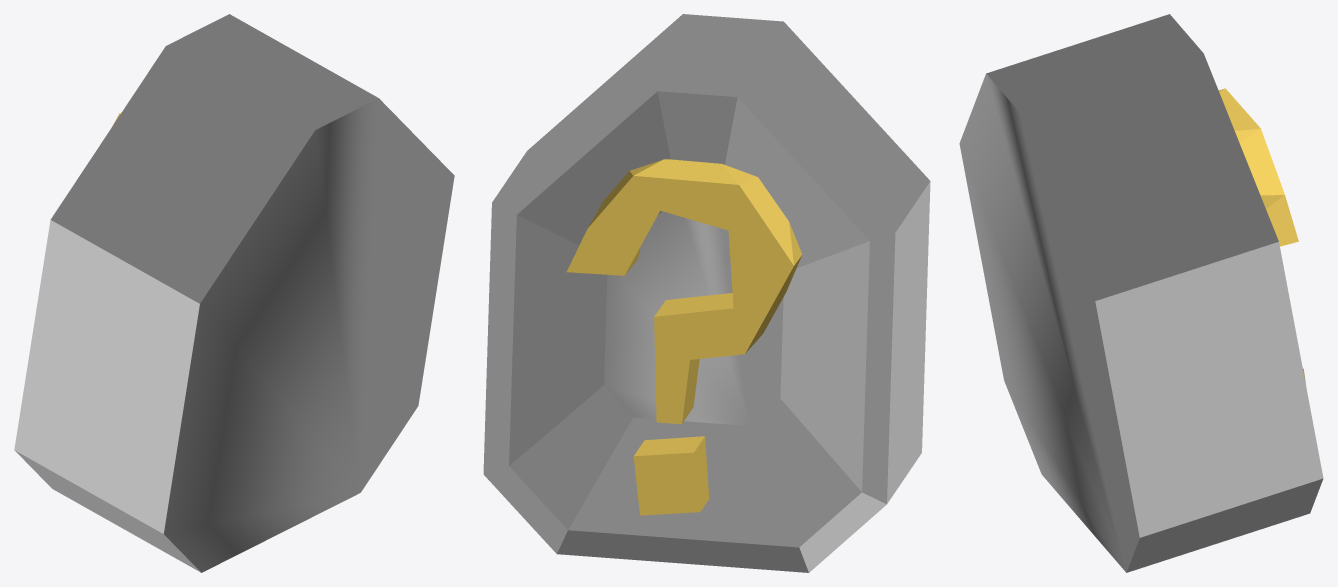
File: goals.fbx
3 renders of one model, left to right at view 1: azimuth 30°, elevation 25°; view 2: azimuth 150°, elevation 25°; view 3: azimuth 270°, elevation 25°, orthographic. The views are drawn at different scales.
Parts seen in each view (by area): view 1: search; view 2: search; view 3: search.
Boxes of the visible parts, x1,y1,x2,y2 form: search: (14, 14, 454, 572); search: (483, 14, 930, 572); search: (959, 14, 1323, 572).
Bounding box in the file's own units: 3.68 × 4.22 × 2.93.
